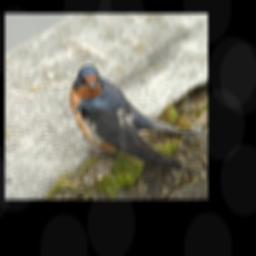Swallow: (69, 63, 208, 170)
